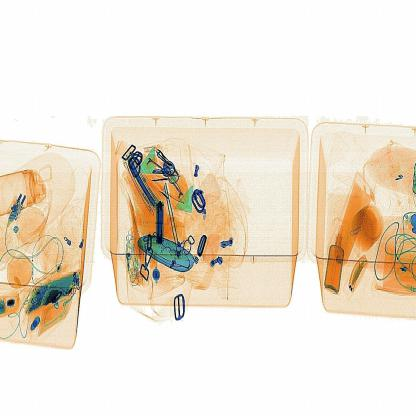scissors: (150, 192, 174, 247)
